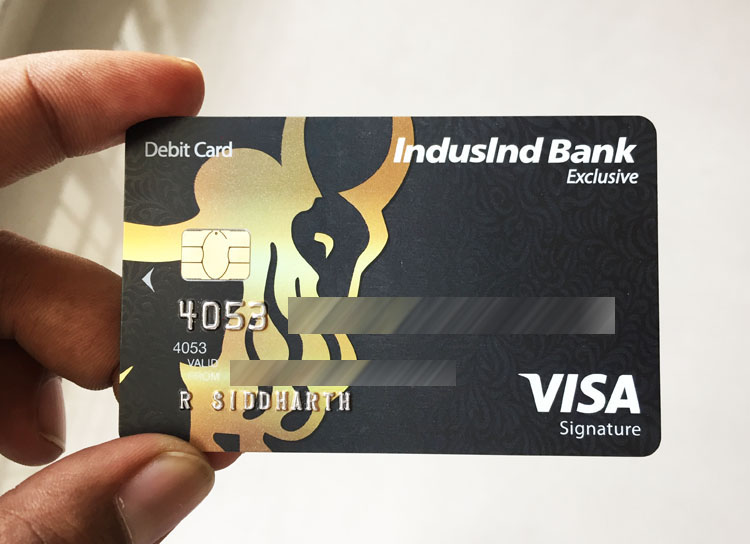tarjeta: (117, 114, 663, 458)
